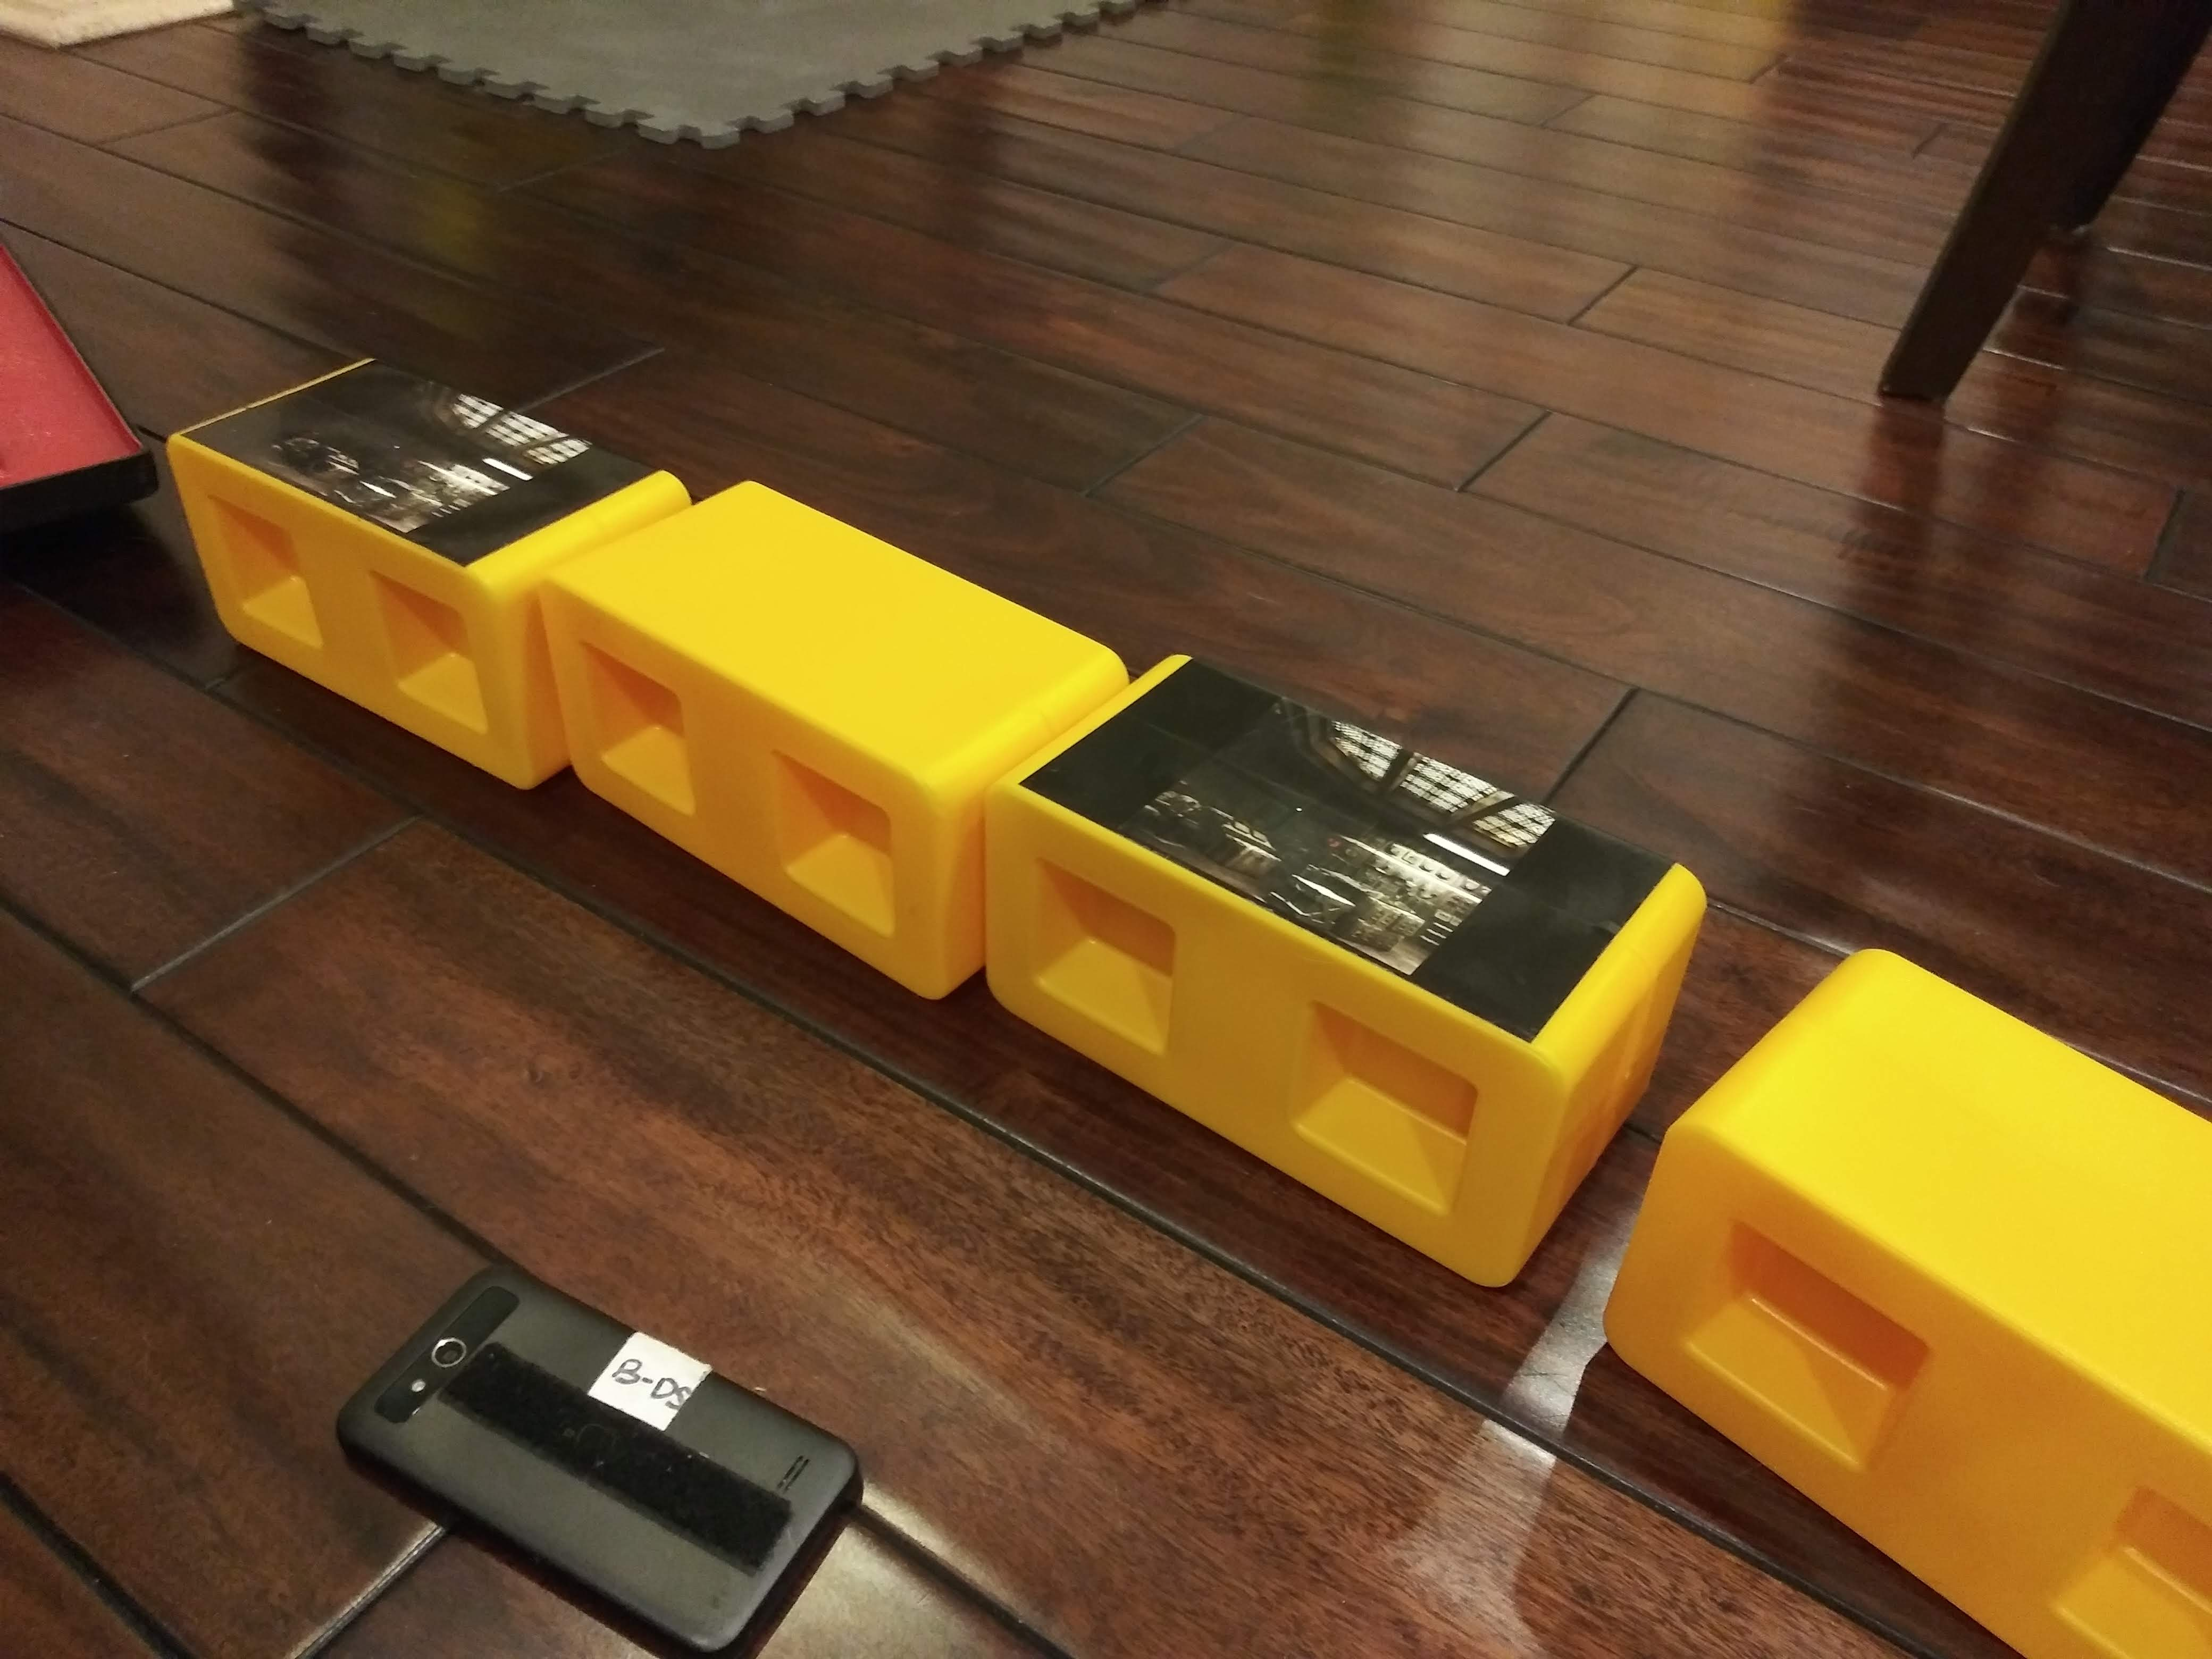skystone: (1080, 645, 1622, 1166), (172, 328, 590, 688)
stone: (1742, 969, 2203, 1607), (653, 474, 982, 972)
